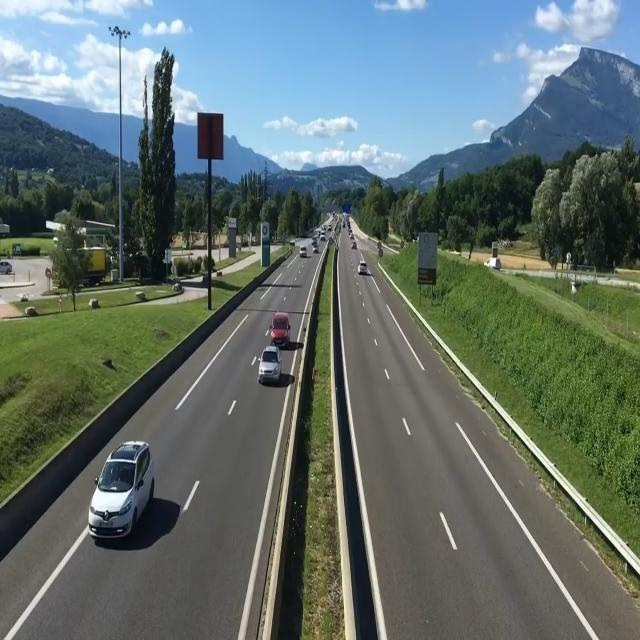Car: (87, 438, 152, 540), (258, 346, 282, 384), (270, 312, 290, 348), (358, 259, 368, 277)
Van: (299, 245, 307, 259)
